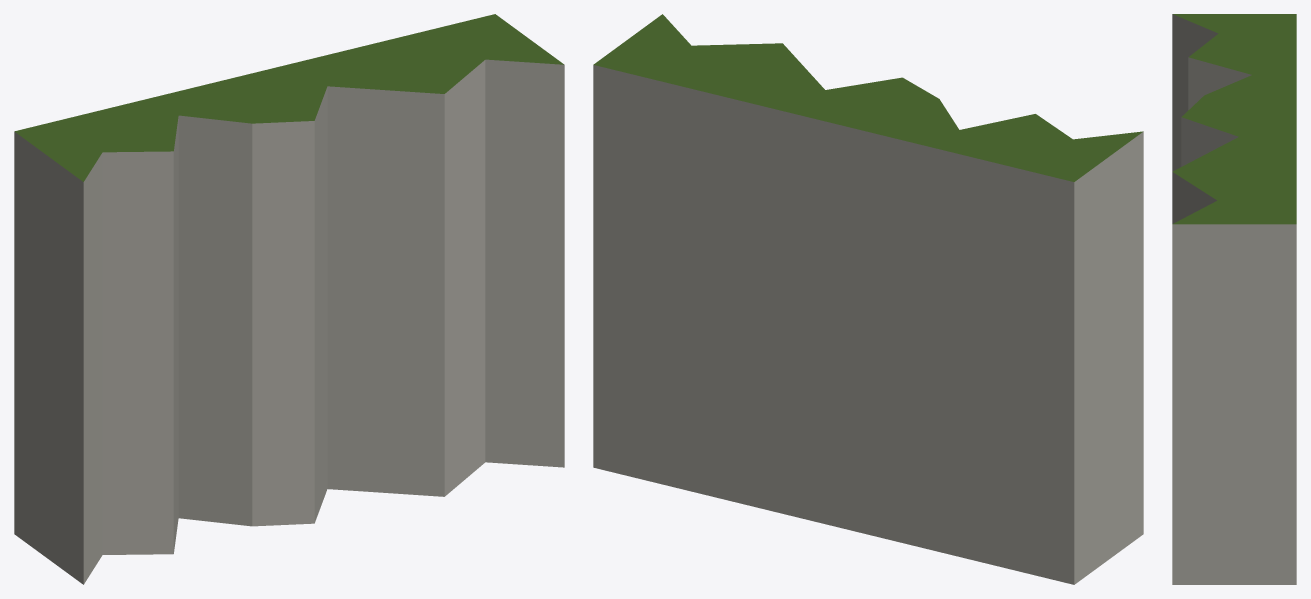
File: Terrain_Modular_Tiles_Grass_Rock_Cliff_Side_02.fbx
The picture shows the model from 3 angles, left to right: view 1: azimuth 30°, elevation 25°; view 2: azimuth 150°, elevation 25°; view 3: azimuth 270°, elevation 25°; orthographic projection. The views are drawn at different scales.
Parts seen in each view (by area): view 1: Terrain_Modular_Tiles_Grass_Rock_Cliff_Side_02; view 2: Terrain_Modular_Tiles_Grass_Rock_Cliff_Side_02; view 3: Terrain_Modular_Tiles_Grass_Rock_Cliff_Side_02.
Part boxes in pixels (x1,y1,x2,y2): Terrain_Modular_Tiles_Grass_Rock_Cliff_Side_02: [14, 14, 564, 584]; Terrain_Modular_Tiles_Grass_Rock_Cliff_Side_02: [593, 14, 1143, 584]; Terrain_Modular_Tiles_Grass_Rock_Cliff_Side_02: [1172, 14, 1296, 584].
Bounding box in the file's own units: 118 × 94.49 × 29.53.
